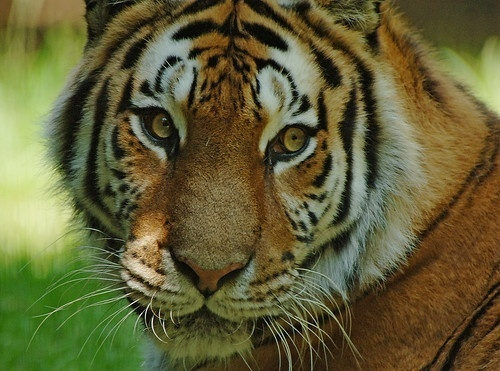tigre: (36, 1, 500, 369)
